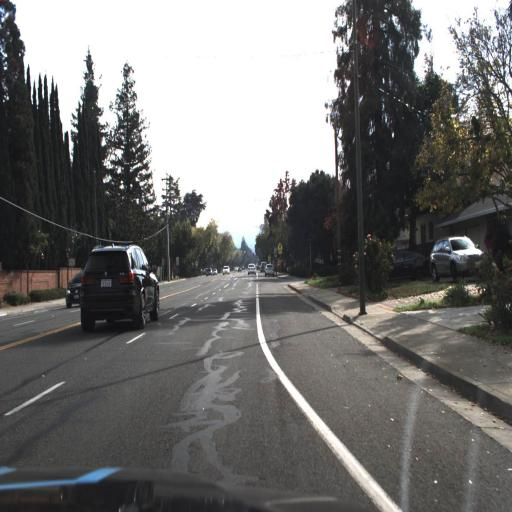car: (72, 236, 162, 332), (426, 232, 485, 284), (428, 234, 485, 282), (385, 248, 430, 284), (62, 270, 84, 310), (262, 260, 276, 279), (244, 260, 258, 278)
